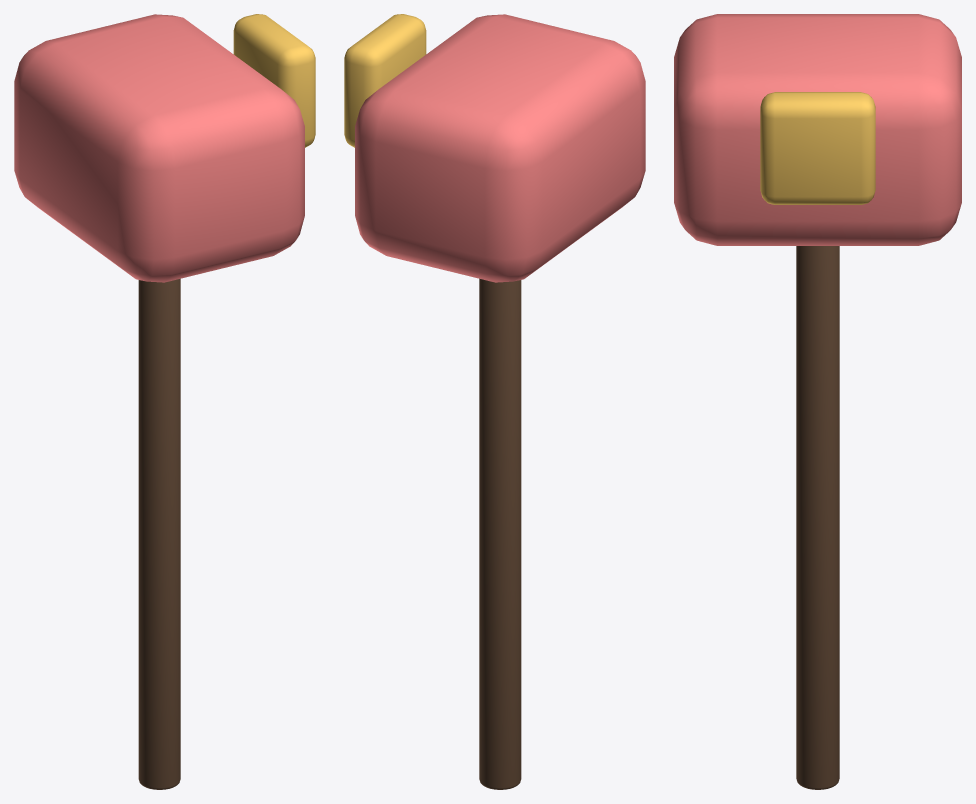
Rendered from mailbox.glb.
The picture shows the model from 3 angles, left to right: view 1: azimuth 30°, elevation 25°; view 2: azimuth 150°, elevation 25°; view 3: azimuth 270°, elevation 25°; orthographic projection. The views are drawn at different scales.
Parts seen in each view (by area): view 1: mailbox; view 2: mailbox; view 3: mailbox.
Part boxes in pixels (bbox=[...]): mailbox: bbox=[14, 14, 315, 789]; mailbox: bbox=[344, 14, 645, 789]; mailbox: bbox=[674, 14, 961, 789].
Bounding box in the file's own units: 0.37 × 1.14 × 0.4.
